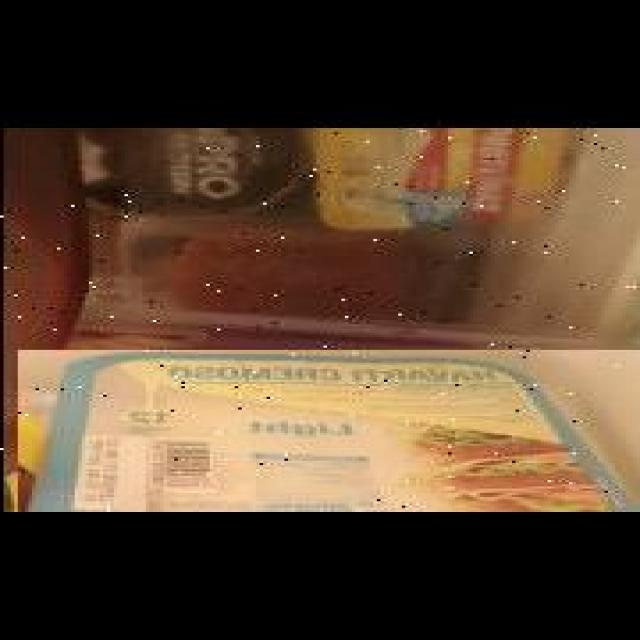cheese: (14, 348, 640, 512)
